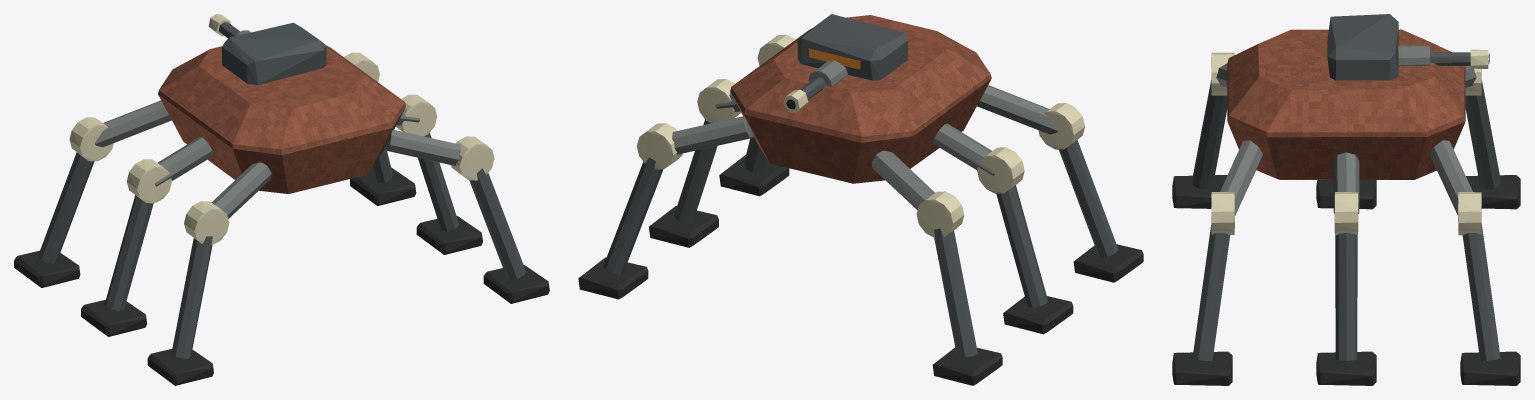
3 views of the same model, side by side, from view 1: azimuth 30°, elevation 25°; view 2: azimuth 150°, elevation 25°; view 3: azimuth 270°, elevation 25° (orthographic). The views are drawn at different scales.
Visible parts, largest first — view 1: ST2-E04_Mesh, Knee_Mesh, Knee.001_Mesh, Knee.003_Mesh, Knee.002_Mesh, TurretYaw_Mesh, Knee.004_Mesh, Knee.005_Mesh, Hip_R0_Mesh, Hip_L2_Mesh, Hip_L0_Mesh, Hip_L1_Mesh (+1 smaller); view 2: ST2-E04_Mesh, Knee.002_Mesh, Knee.001_Mesh, Knee.005_Mesh, Knee_Mesh, TurretYaw_Mesh, Knee.004_Mesh, Knee.003_Mesh, Hip_R2_Mesh, Hip_L0_Mesh, Hip_L2_Mesh, Hip_L1_Mesh (+1 smaller); view 3: ST2-E04_Mesh, Knee.004_Mesh, Knee.005_Mesh, Knee.003_Mesh, TurretYaw_Mesh, Knee_Mesh, Knee.002_Mesh, BarrelRecoil_Mesh, Hip_R0_Mesh, Hip_R2_Mesh, Hip_R1_Mesh, Knee.001_Mesh.
Part boxes in pixels (x1,y1,x2,y2): ST2-E04_Mesh: (158, 45, 405, 193); Knee_Mesh: (147, 201, 229, 385); Knee.001_Mesh: (81, 159, 171, 336); Knee.003_Mesh: (451, 136, 549, 303); Knee.002_Mesh: (14, 117, 113, 287); TurretYaw_Mesh: (222, 22, 326, 84); Knee.004_Mesh: (396, 94, 482, 254); Knee.005_Mesh: (344, 52, 416, 205); Hip_R0_Mesh: (384, 129, 460, 165); Hip_L2_Mesh: (95, 100, 171, 147); Hip_L0_Mesh: (211, 162, 271, 218); Hip_L1_Mesh: (155, 137, 213, 186); ST2-E04_Mesh: (730, 15, 991, 183); Knee.002_Mesh: (916, 191, 1002, 385); Knee.001_Mesh: (977, 147, 1073, 334); Knee.005_Mesh: (578, 123, 682, 299); Knee_Mesh: (1038, 103, 1143, 282); TurretYaw_Mesh: (797, 14, 907, 80); Knee.004_Mesh: (649, 79, 740, 247); Knee.003_Mesh: (719, 34, 795, 196); Hip_R2_Mesh: (672, 116, 753, 154); Hip_L0_Mesh: (977, 85, 1058, 134); Hip_L2_Mesh: (871, 150, 934, 209); Hip_L1_Mesh: (933, 123, 994, 175); ST2-E04_Mesh: (1227, 29, 1465, 179); Knee.004_Mesh: (1316, 192, 1376, 385); Knee.005_Mesh: (1458, 192, 1520, 385); Knee.003_Mesh: (1172, 192, 1234, 385); TurretYaw_Mesh: (1327, 14, 1400, 80); Knee_Mesh: (1172, 52, 1234, 208); Knee.002_Mesh: (1465, 68, 1520, 209); BarrelRecoil_Mesh: (1398, 45, 1489, 68); Hip_R0_Mesh: (1220, 140, 1262, 215); Hip_R2_Mesh: (1430, 140, 1472, 215); Hip_R1_Mesh: (1333, 152, 1359, 213); Knee.001_Mesh: (1316, 180, 1376, 209).
Size of the model in its own units: 4.28 by 2.58 by 3.17.
6 materials, 1 textured.
